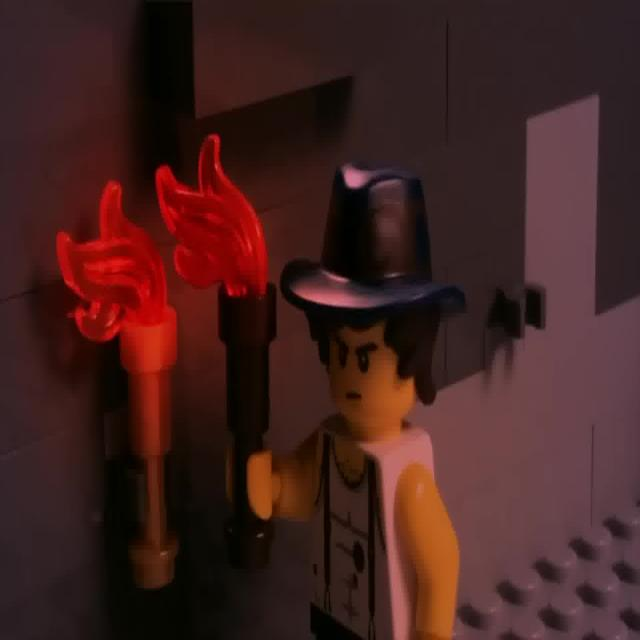4: (387, 464, 469, 632), (223, 417, 319, 542)
hand: (279, 139, 445, 639)
